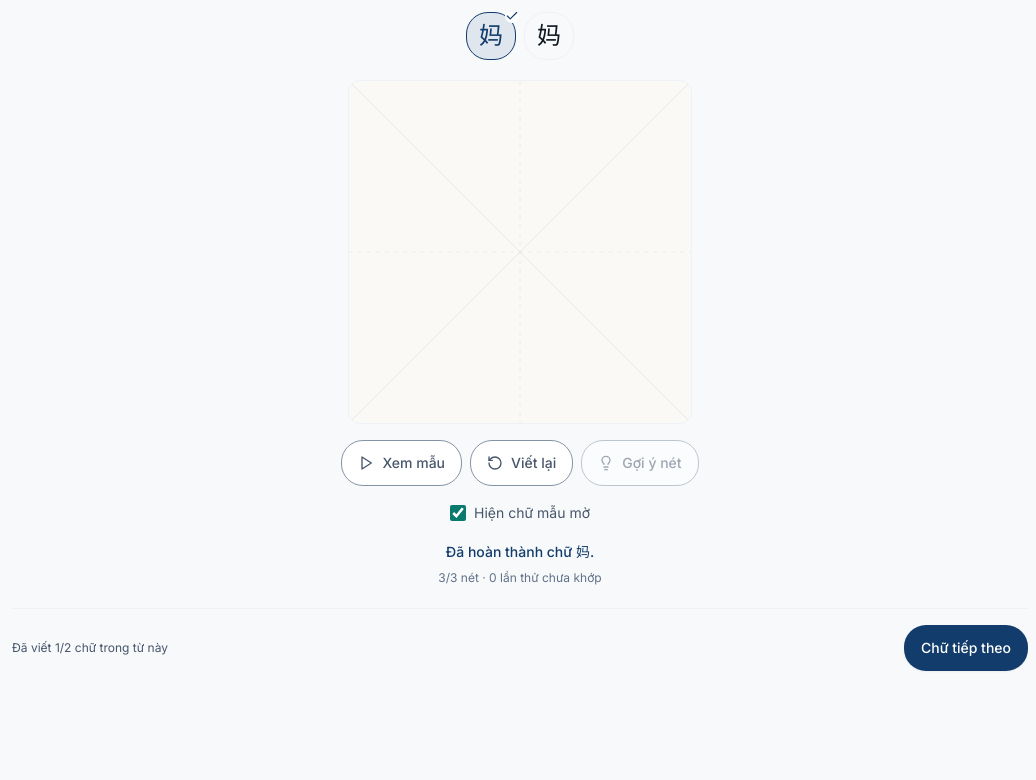
Test: starts a new board for repeated characters instead of reusing completed strokes
Expected: the button "Xem mẫu" is enabled, [341, 440, 462, 486]
Expected: the text "Đã viết 1/2 chữ trong từ này" is shown, [12, 639, 168, 657]
Click the button "Chữ tiếp theo": (966,648) [904, 625, 1028, 671]
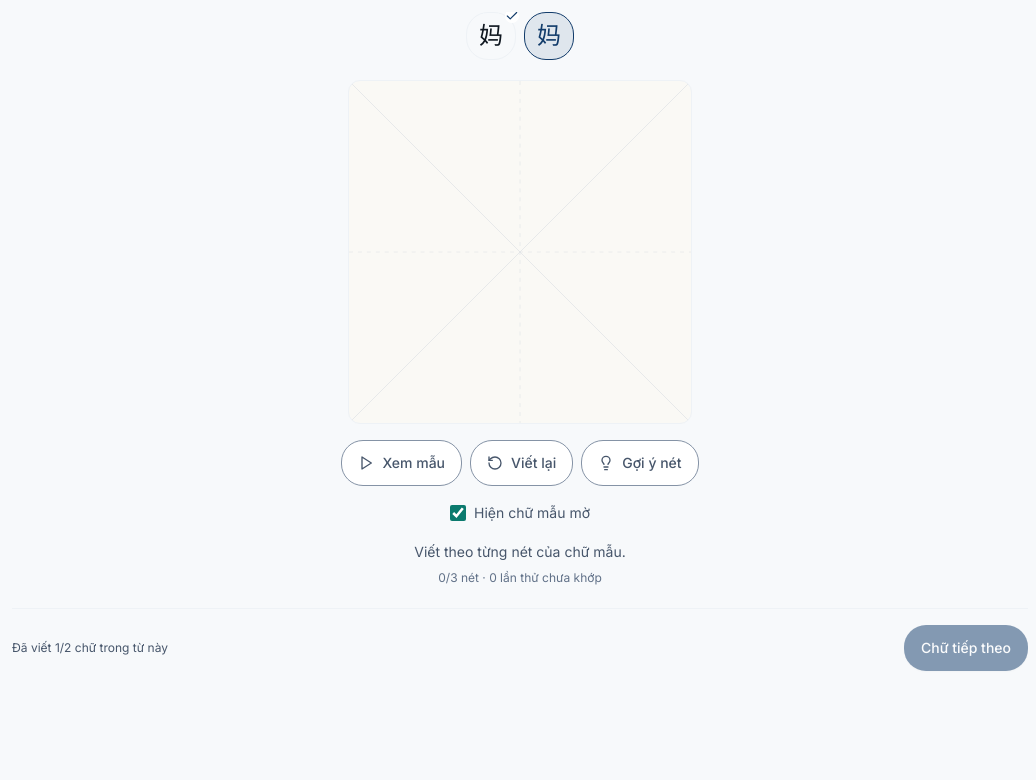
Expected: the button "Xem mẫu" is enabled, [341, 440, 462, 486]
Result: the text "0/3 nét · 0 lần thử chưa khớp" is shown at [438, 570, 602, 585]
